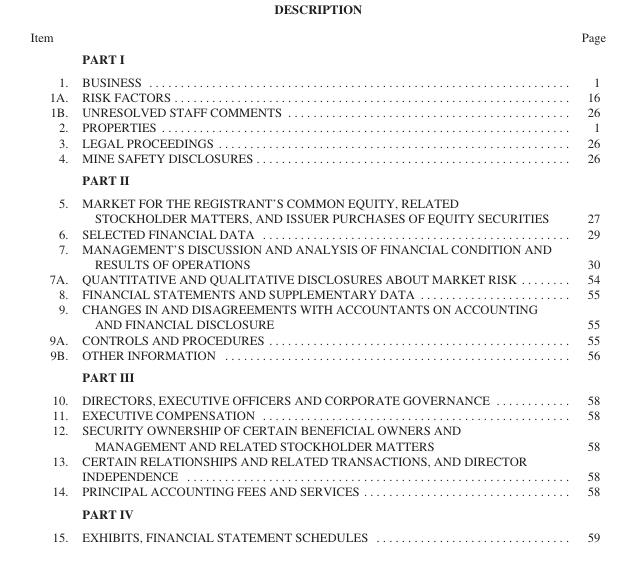table: (29, 29, 605, 543)
table column: (74, 29, 565, 543), (29, 29, 74, 543), (565, 29, 605, 543)
table column header: (29, 29, 605, 70)
table row: (29, 29, 605, 70), (29, 191, 605, 225), (29, 240, 605, 271), (29, 452, 605, 483), (29, 301, 605, 331), (29, 422, 605, 452), (29, 168, 605, 191), (29, 365, 605, 388), (29, 501, 605, 524), (29, 70, 605, 89), (29, 149, 605, 168), (29, 346, 605, 365), (29, 388, 605, 407), (29, 524, 605, 543), (29, 483, 605, 501), (29, 89, 605, 104), (29, 104, 605, 119), (29, 119, 605, 134), (29, 134, 605, 149), (29, 225, 605, 240), (29, 271, 605, 286), (29, 286, 605, 301), (29, 331, 605, 346), (29, 407, 605, 422)
table spanning cell: (29, 149, 74, 191), (29, 346, 74, 388), (29, 483, 74, 524)
